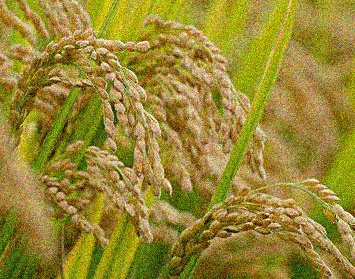rice: (3, 26, 172, 183), (167, 176, 354, 279), (10, 141, 158, 255)
